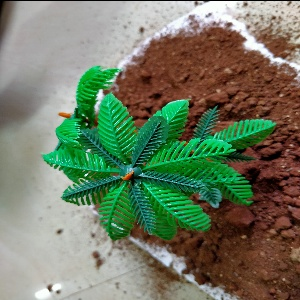plant: (37, 67, 258, 248)
